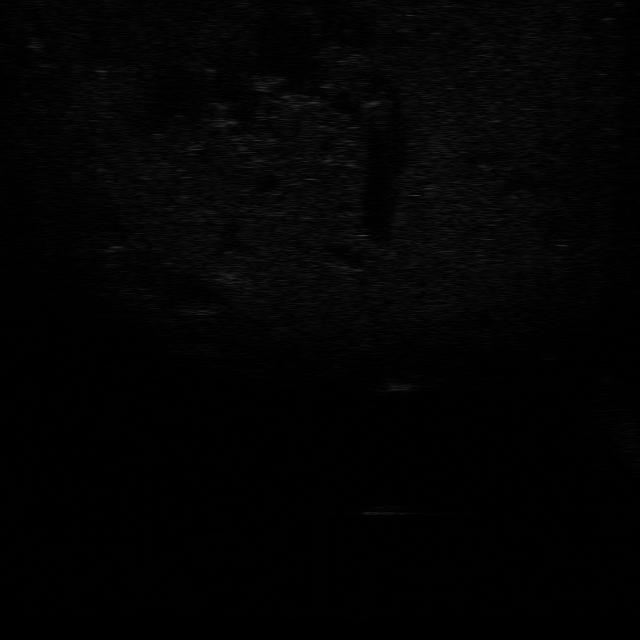cube: (352, 502, 413, 517)
square cage: (372, 374, 428, 394)
